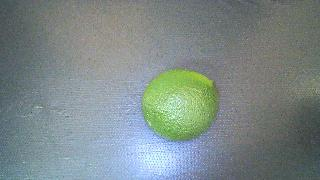EXPORTACION: (142, 69, 219, 141)
